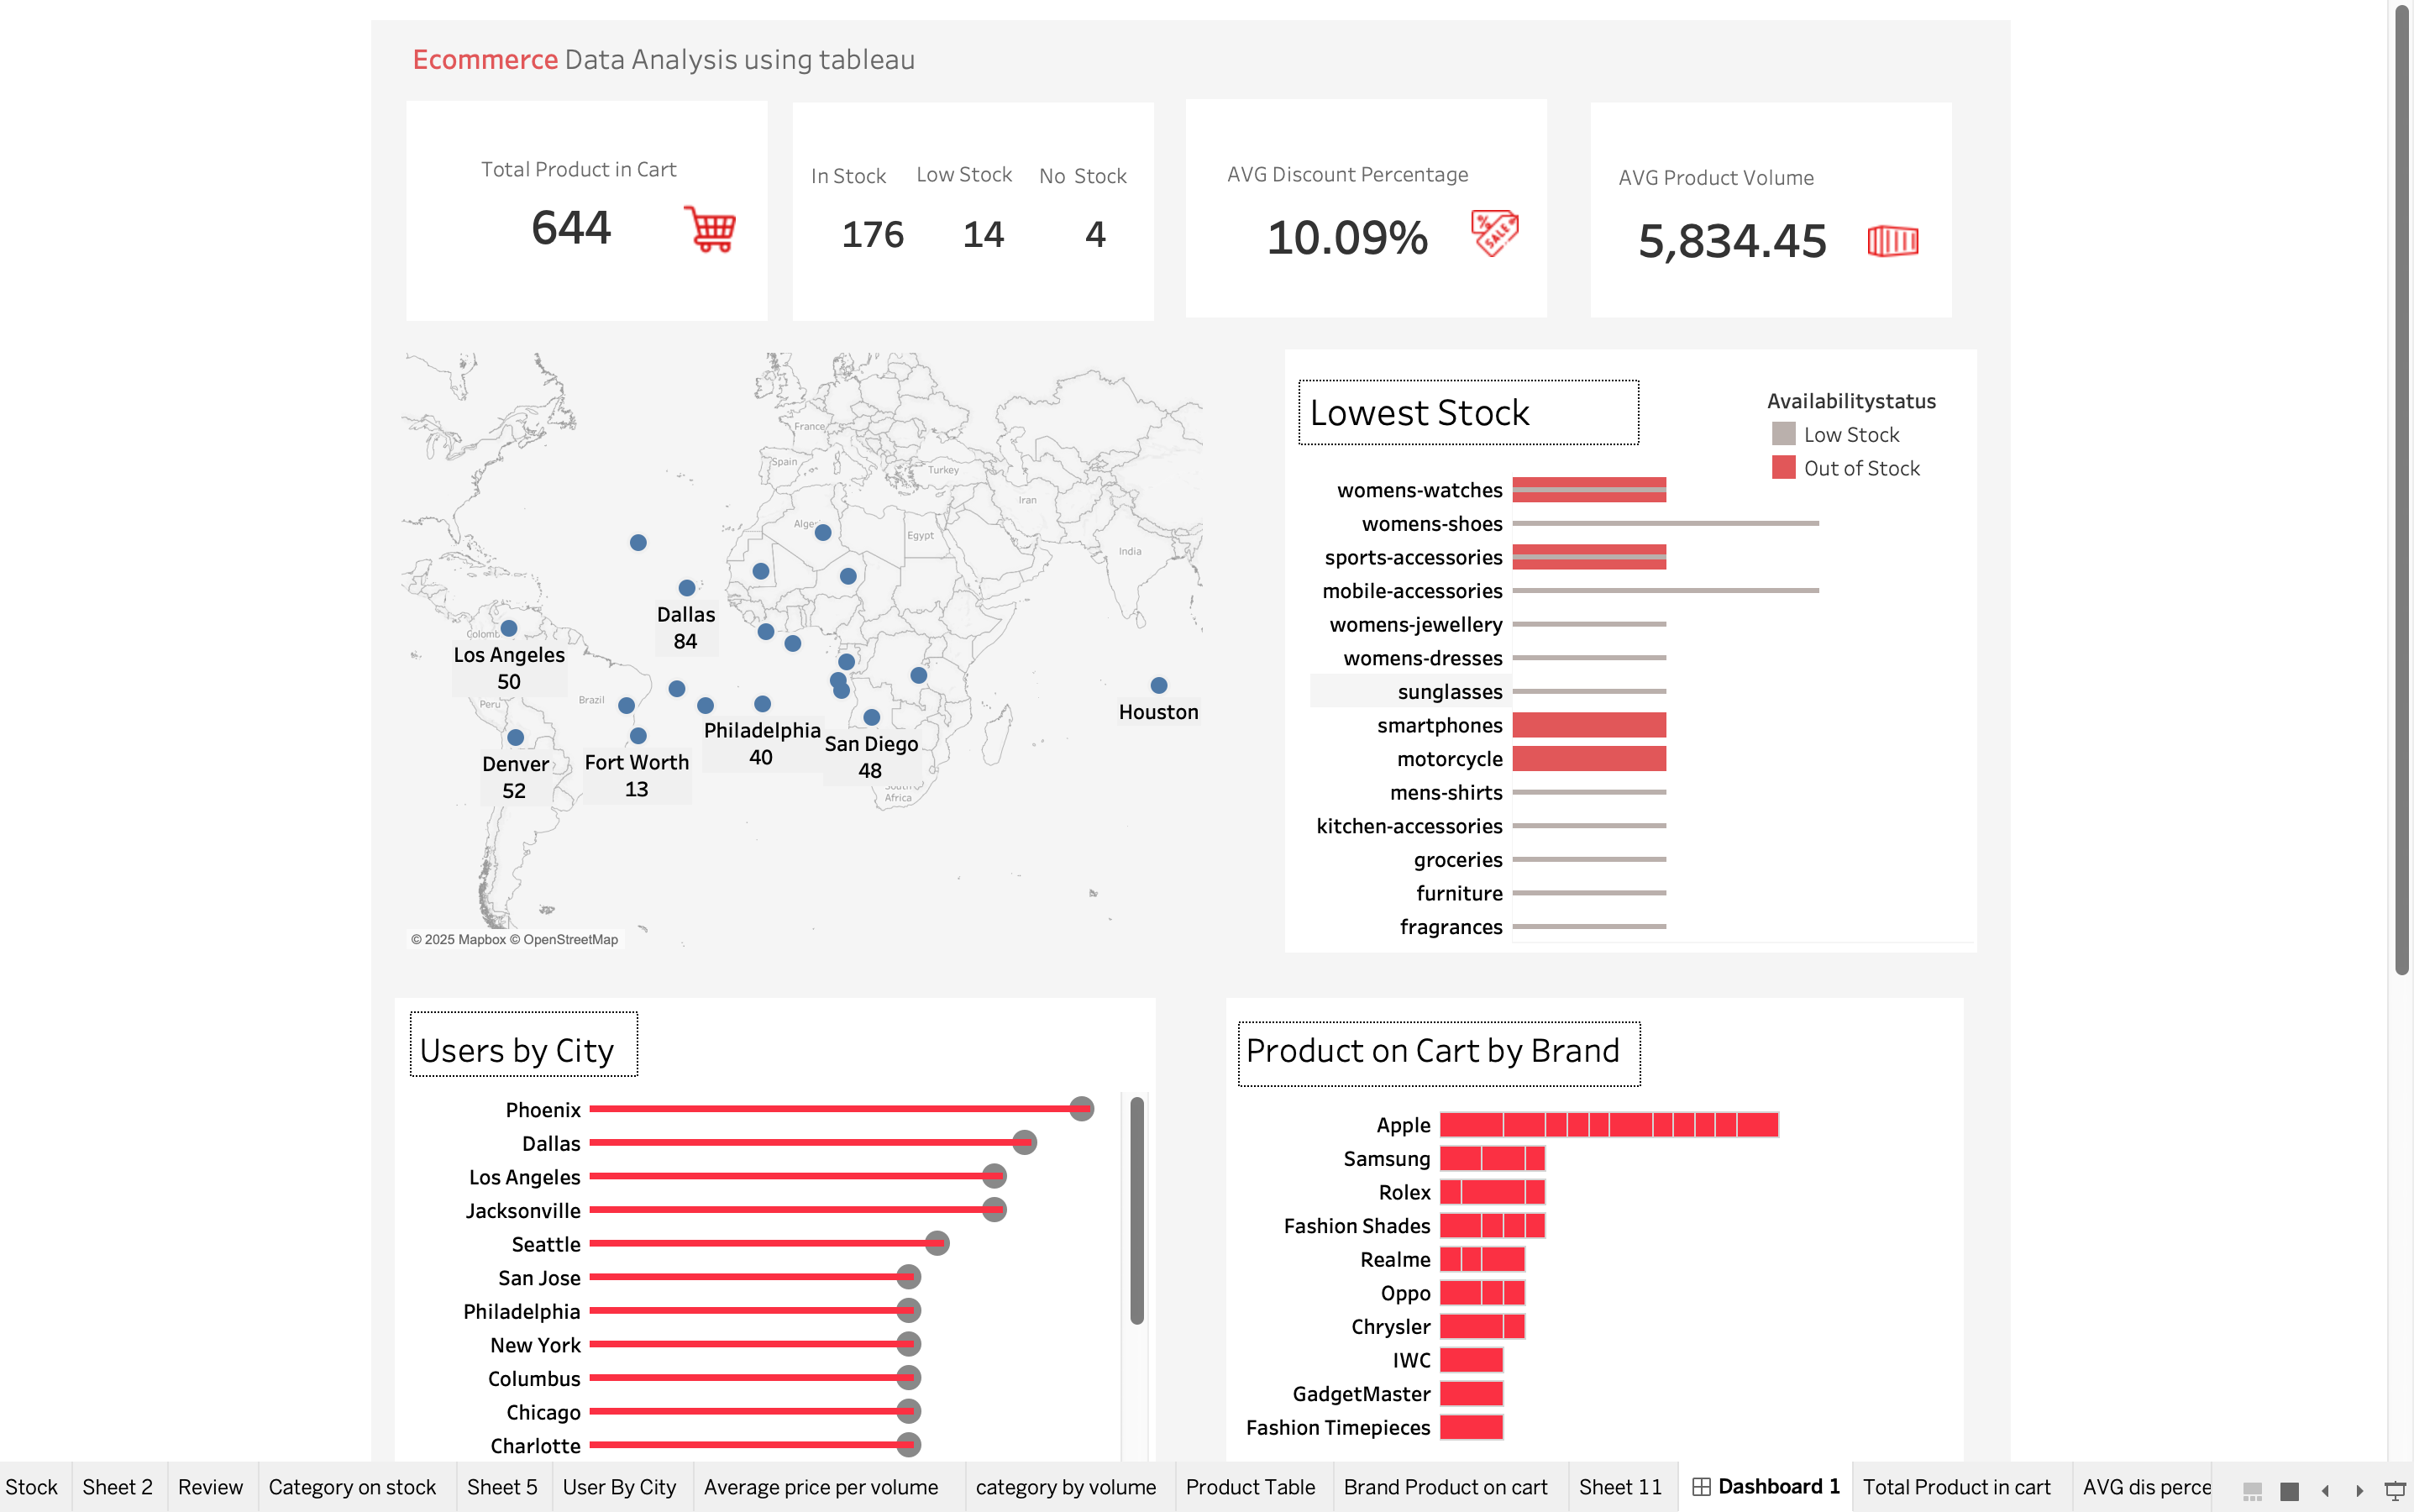

What the dashboard file says about the page in this screenshot:
{"tool":"tableau","page":{"name":"Dashboard 1","canvas":[1000,1300],"ordinal":0},"visuals":[{"type":"blank","box":[8,8,984,1284]},{"type":"text","box":[34,18.4,413,32.5]},{"type":"blank","box":[497,58.5,215,130]},{"type":"blank","box":[33,60,215,131]},{"type":"blank","box":[263,60.7,215,130]},{"type":"blank","box":[738,60.7,215,127.8]},{"type":"text","box":[75,76.4,123,48.8]},{"type":"text","box":[334,79,100,49]},{"type":"text","box":[519,79,152,49]},{"type":"text","box":[271,80,100,49]},{"type":"text","box":[407,80,100,49]},{"type":"text","box":[752,81,152,49]},{"type":"worksheet","title":"Total Product in cart","mark":"Automatic","box":[100,101,141,123]},{"type":"worksheet","title":"AVG dis percentage","mark":"Automatic","box":[526,107,124,91]},{"type":"worksheet","title":"Stock","mark":"Automatic","cols":["availabilitystatus"],"box":[274,110,259,206]},{"type":"blank","box":[50,117,219,240.5]},{"type":"image","param":"/Users/manishbhattarai/Downloads/shopping-cart (1).png","box":[198,121,33,31]},{"type":"image","param":"/Users/manishbhattarai/Downloads/coupon.png","box":[667,125,33,28]},{"type":"worksheet","title":"AVG Product Volume","mark":"Automatic","box":[744,125,169,64]},{"type":"image","param":"/Users/manishbhattarai/Downloads/worldwide-shipping.png","box":[903,128,45,30]},{"type":"blank","box":[556,208,412,359]},{"type":"worksheet","title":"maps","mark":"Automatic","rows":["latitude"],"cols":["longitude"],"box":[30,210,477,357]},{"type":"text","box":[568,219.9,228,48.8]},{"type":"blank","box":[564,226.4,203,39]},{"type":"legend","title":"Category on stock","param":"[federated.0tnmxpm1oqwydo1fy4qjo1lnhoth].[none:availabilitystatus:nk]","box":[843,229.7,140,134.3]},{"type":"worksheet","title":"Category on stock","mark":"Automatic","rows":["category"],"cols":["products_99F87C7AEBEC4487A3D673138A833EC3"],"box":[571,281,395,284]},{"type":"blank","box":[26,594,453,313]},{"type":"blank","box":[521,594,439,313]},{"type":"text","box":[38,600,152,49]},{"type":"text","box":[530,600,257,49]},{"type":"blank","box":[35,602,136,39]},{"type":"blank","box":[528,608,240,39]},{"type":"worksheet","title":"User By City","mark":"Automatic","rows":["city"],"cols":["user_address_021CDFB4D09B4254B35A31B1BF4C99DB","user_address_021CDFB4D09B4254B35A31B1BF4C99DB"],"box":[42,650,433,242]},{"type":"worksheet","title":"Brand Product on cart","mark":"Automatic","rows":["brand"],"cols":["cart_items_3EBC3E575FB24DFEB061DC519AD7F235"],"box":[528,659,333,227]},{"type":"blank","box":[28,915,938,390]},{"type":"text","box":[37,926,395,48]},{"type":"blank","box":[37,929,350,39]}]}

Visuals, with their boxes on the page's 1000x1300 design canvas (x1, y1, x2, y2). These are canvas units, not pixel positions in the 2414x1512 screenshot, which may show the page scaled, cropped or inside an application window:
blank: locate(8, 8, 992, 1292)
text: locate(34, 18, 447, 51)
blank: locate(497, 58, 712, 188)
blank: locate(33, 60, 248, 191)
blank: locate(263, 61, 478, 191)
blank: locate(738, 61, 953, 188)
text: locate(75, 76, 198, 125)
text: locate(334, 79, 434, 128)
text: locate(519, 79, 671, 128)
text: locate(271, 80, 371, 129)
text: locate(407, 80, 507, 129)
text: locate(752, 81, 904, 130)
"Total Product in cart" worksheet: locate(100, 101, 241, 224)
"AVG dis percentage" worksheet: locate(526, 107, 650, 198)
"Stock" worksheet: locate(274, 110, 533, 316)
blank: locate(50, 117, 269, 358)
image: locate(198, 121, 231, 152)
image: locate(667, 125, 700, 153)
"AVG Product Volume" worksheet: locate(744, 125, 913, 189)
image: locate(903, 128, 948, 158)
blank: locate(556, 208, 968, 567)
"maps" worksheet: locate(30, 210, 507, 567)
text: locate(568, 220, 796, 269)
blank: locate(564, 226, 767, 265)
"Category on stock" legend: locate(843, 230, 983, 364)
"Category on stock" worksheet: locate(571, 281, 966, 565)
blank: locate(26, 594, 479, 907)
blank: locate(521, 594, 960, 907)
text: locate(38, 600, 190, 649)
text: locate(530, 600, 787, 649)
blank: locate(35, 602, 171, 641)
blank: locate(528, 608, 768, 647)
"User By City" worksheet: locate(42, 650, 475, 892)
"Brand Product on cart" worksheet: locate(528, 659, 861, 886)
blank: locate(28, 915, 966, 1305)
text: locate(37, 926, 432, 974)
blank: locate(37, 929, 387, 968)
